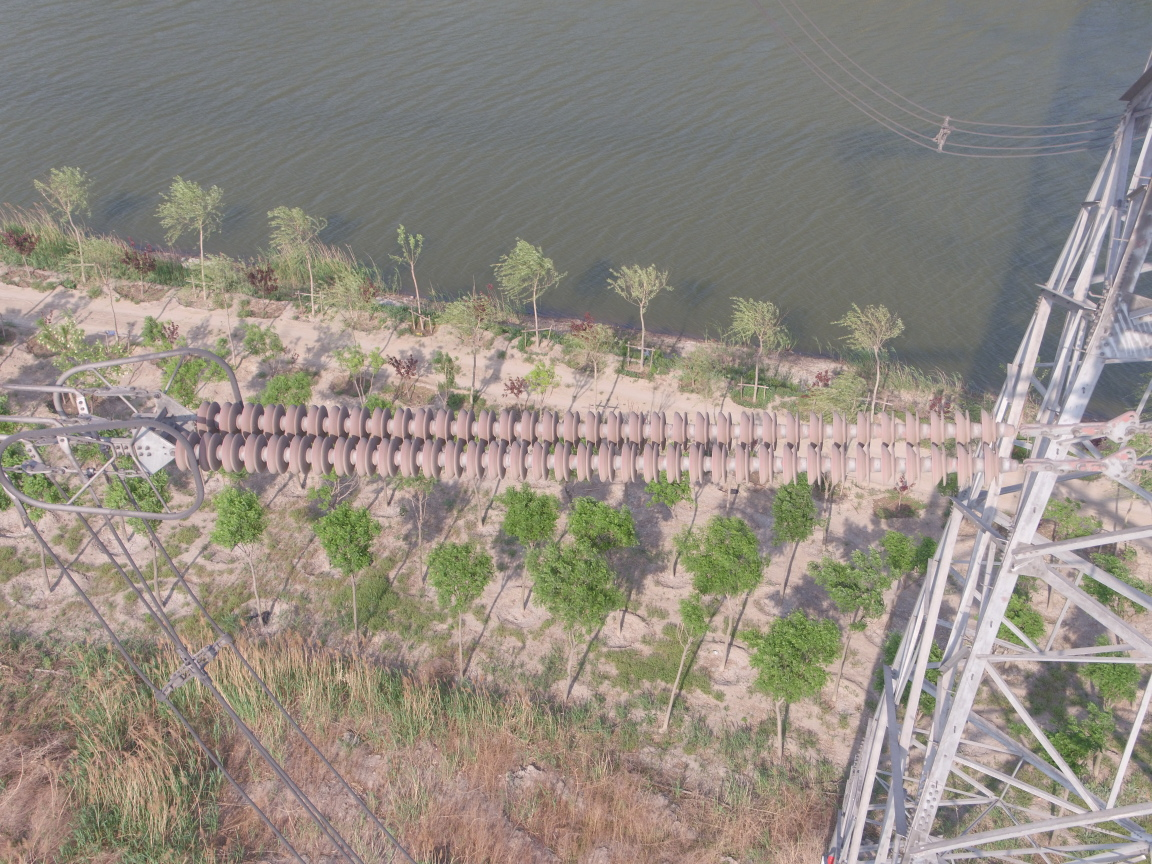insulator: (163, 393, 1068, 493)
